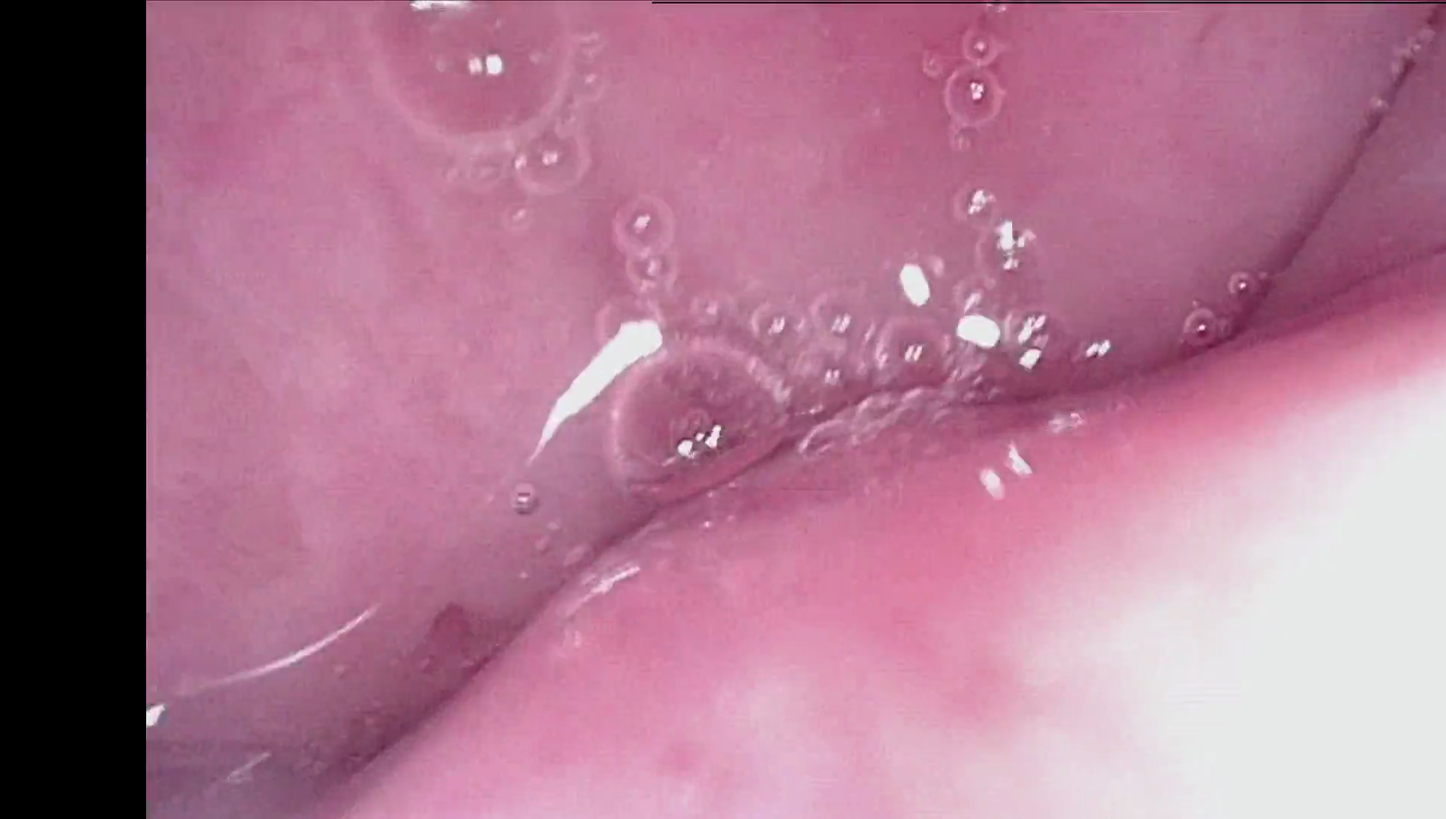close_wall: (891, 297, 1446, 819)
